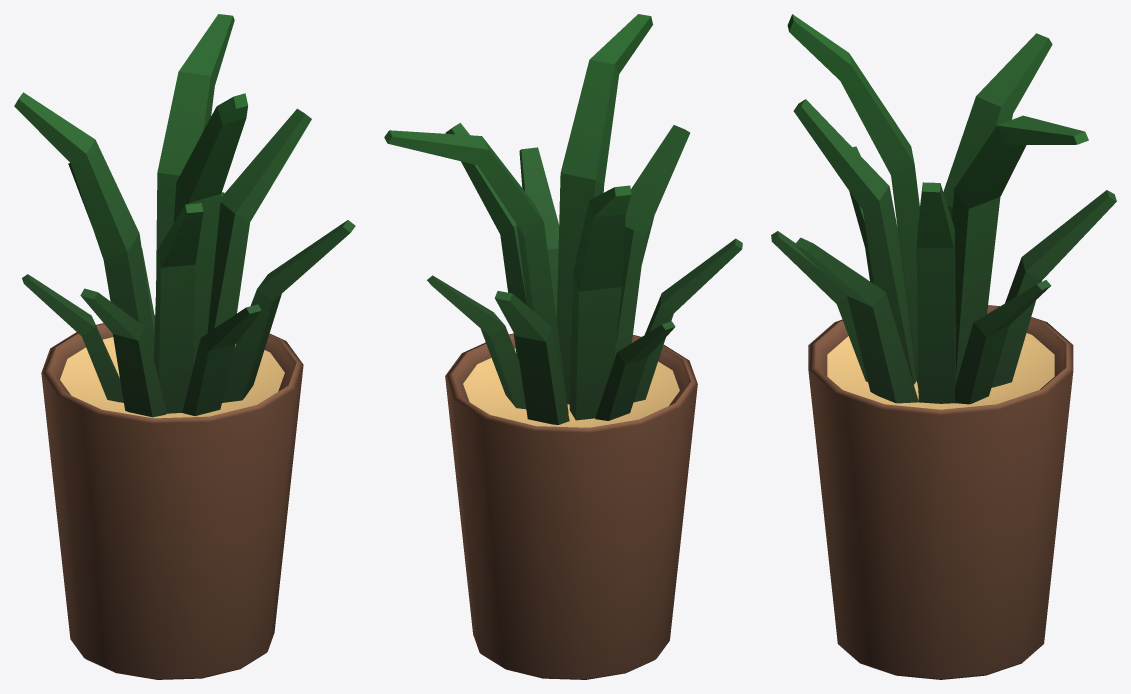
Rendered from PP_Pot2.fbx.
3 renders of one model, left to right at view 1: azimuth 30°, elevation 25°; view 2: azimuth 150°, elevation 25°; view 3: azimuth 270°, elevation 25°, orthographic. The views are drawn at different scales.
Parts seen in each view (by area): view 1: Pot_2; view 2: Pot_2; view 3: Pot_2.
Part boxes in pixels (x1,y1,x2,y2): Pot_2: (14, 14, 355, 679); Pot_2: (384, 14, 742, 679); Pot_2: (771, 14, 1116, 679).
Bounding box in the file's own units: 25.27 × 54.22 × 27.56.
